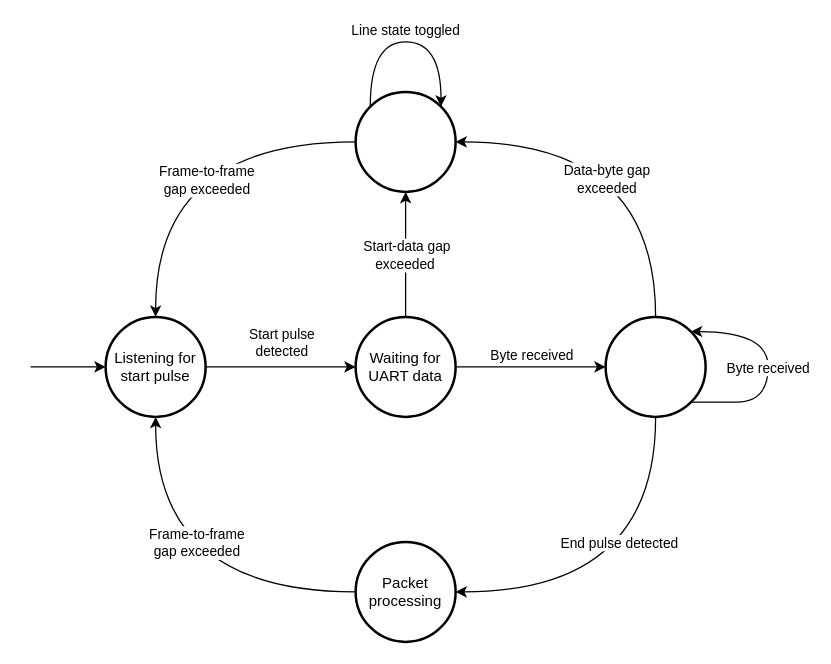
Image size: 831x664. Some labels were removed from this diagram. The centre of each missing label's shape, as x and y in pixels:
"Receiving UART data" belongs at [655,366].
"Waiting for idle bus" belongs at [405,141].
